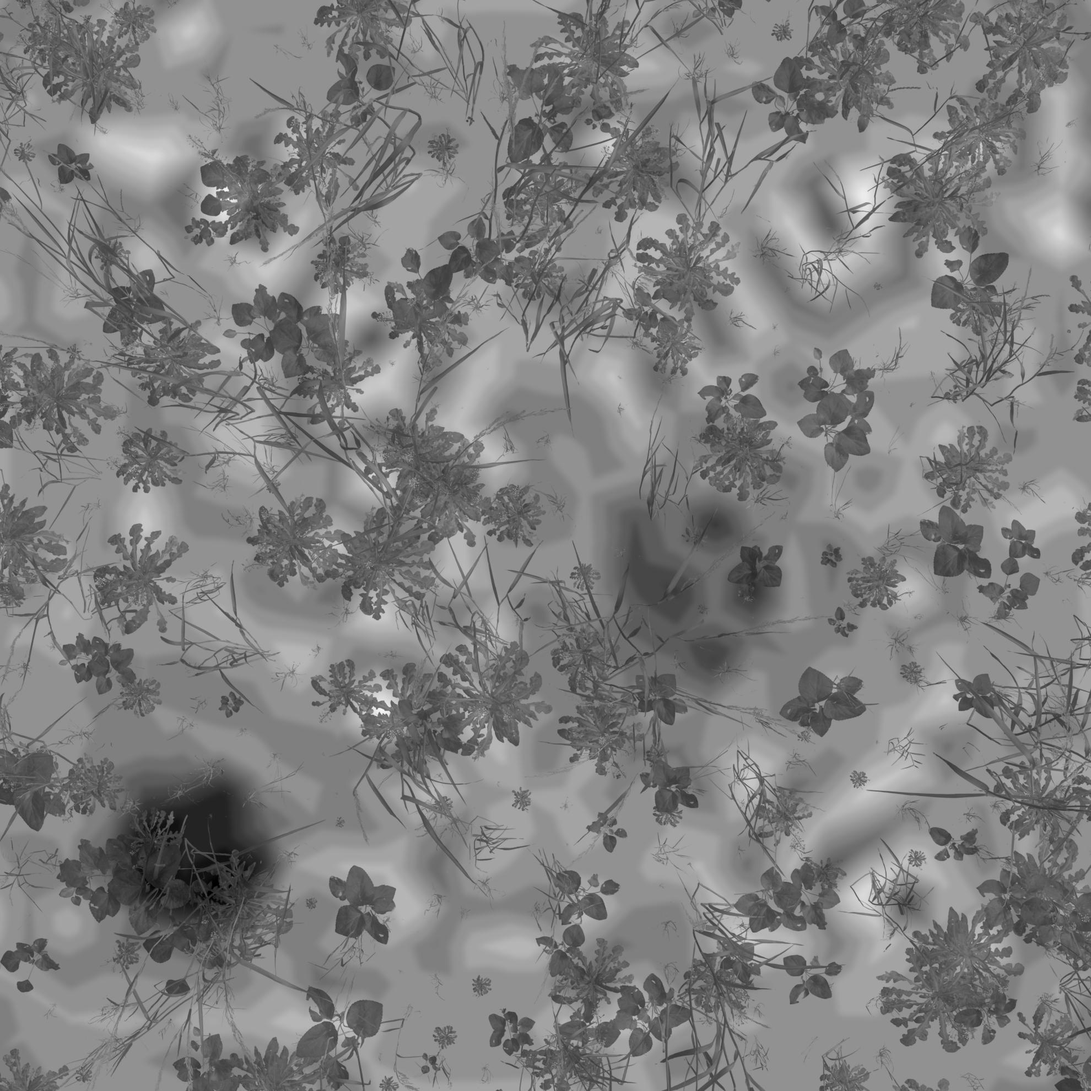landmine: (600, 490, 771, 677), (121, 791, 269, 930)
